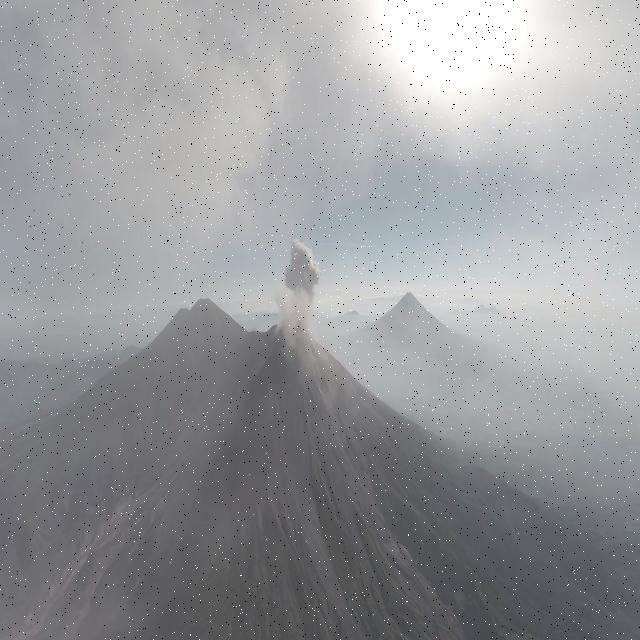Plume: (0, 0, 640, 253), (282, 238, 324, 320)
Summit: (250, 311, 352, 384)
